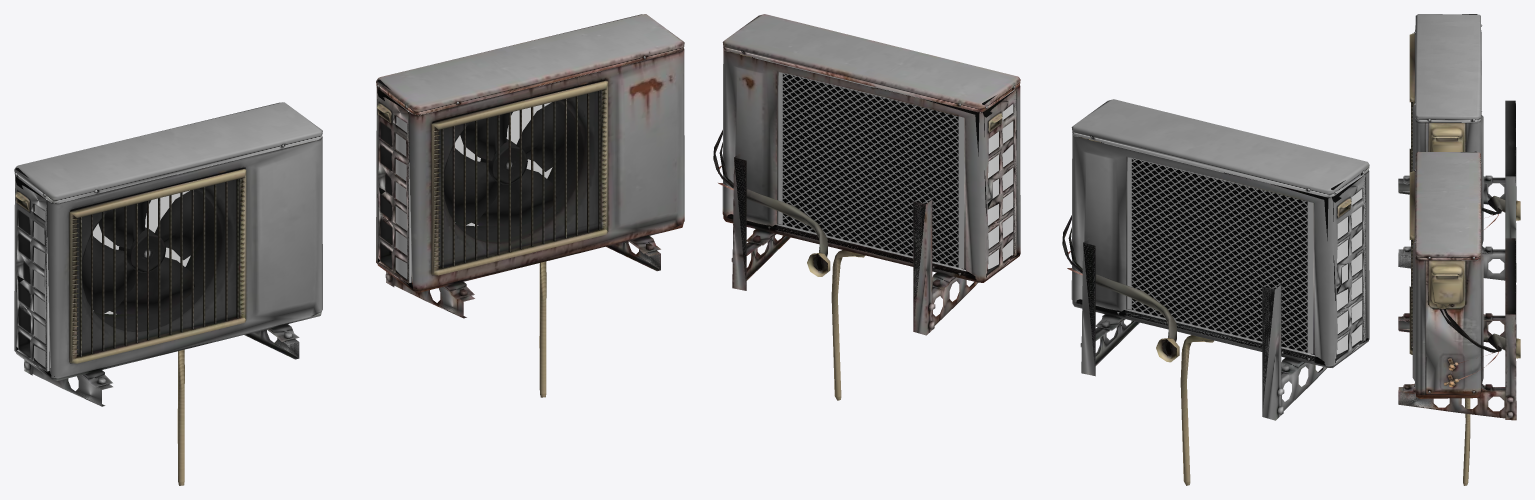
Rendered from exterior_aircon_unit.glb.
3 renders of one model, left to right at view 1: azimuth 30°, elevation 25°; view 2: azimuth 150°, elevation 25°; view 3: azimuth 270°, elevation 25°, orthographic. The views are drawn at different scales.
Visible parts, largest first — view 1: exterior_aircon_unit_rusted, exterior_aircon_unit; view 2: exterior_aircon_unit_rusted, exterior_aircon_unit; view 3: exterior_aircon_unit_rusted, exterior_aircon_unit.
Part boxes in pixels (x1,y1,x2,y2): exterior_aircon_unit_rusted: (376,14,684,397); exterior_aircon_unit: (14,102,322,485); exterior_aircon_unit_rusted: (713,14,1020,400); exterior_aircon_unit: (1062,99,1369,485); exterior_aircon_unit_rusted: (1398,151,1520,485); exterior_aircon_unit: (1398,14,1520,282).
Bounding box in the file's own units: 1.8 × 0.9279 × 0.3742.
4 materials, 4 textured.
